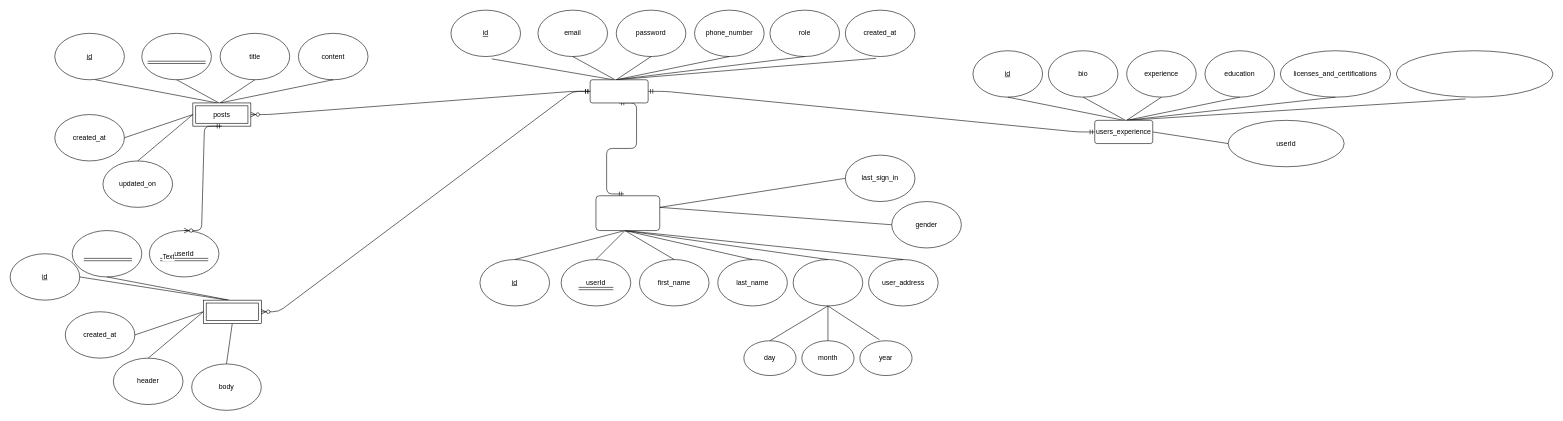
Image size: 1563x421. Some labels were removed from this diagram. The centre of each missing label's shape, as x and y in pixels:
"author_id" goes at pixel 176 56.
"date_of_birth" goes at pixel 828 282.
"post_comments" goes at pixel 232 311.
"post_id" goes at pixel 107 253.
"skills_and_endorsements" goes at pixel 1474 73.
"users" goes at pixel 619 91.
"users_profile" goes at pixel 627 213.
